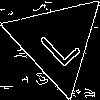L: (31, 16, 82, 69)
